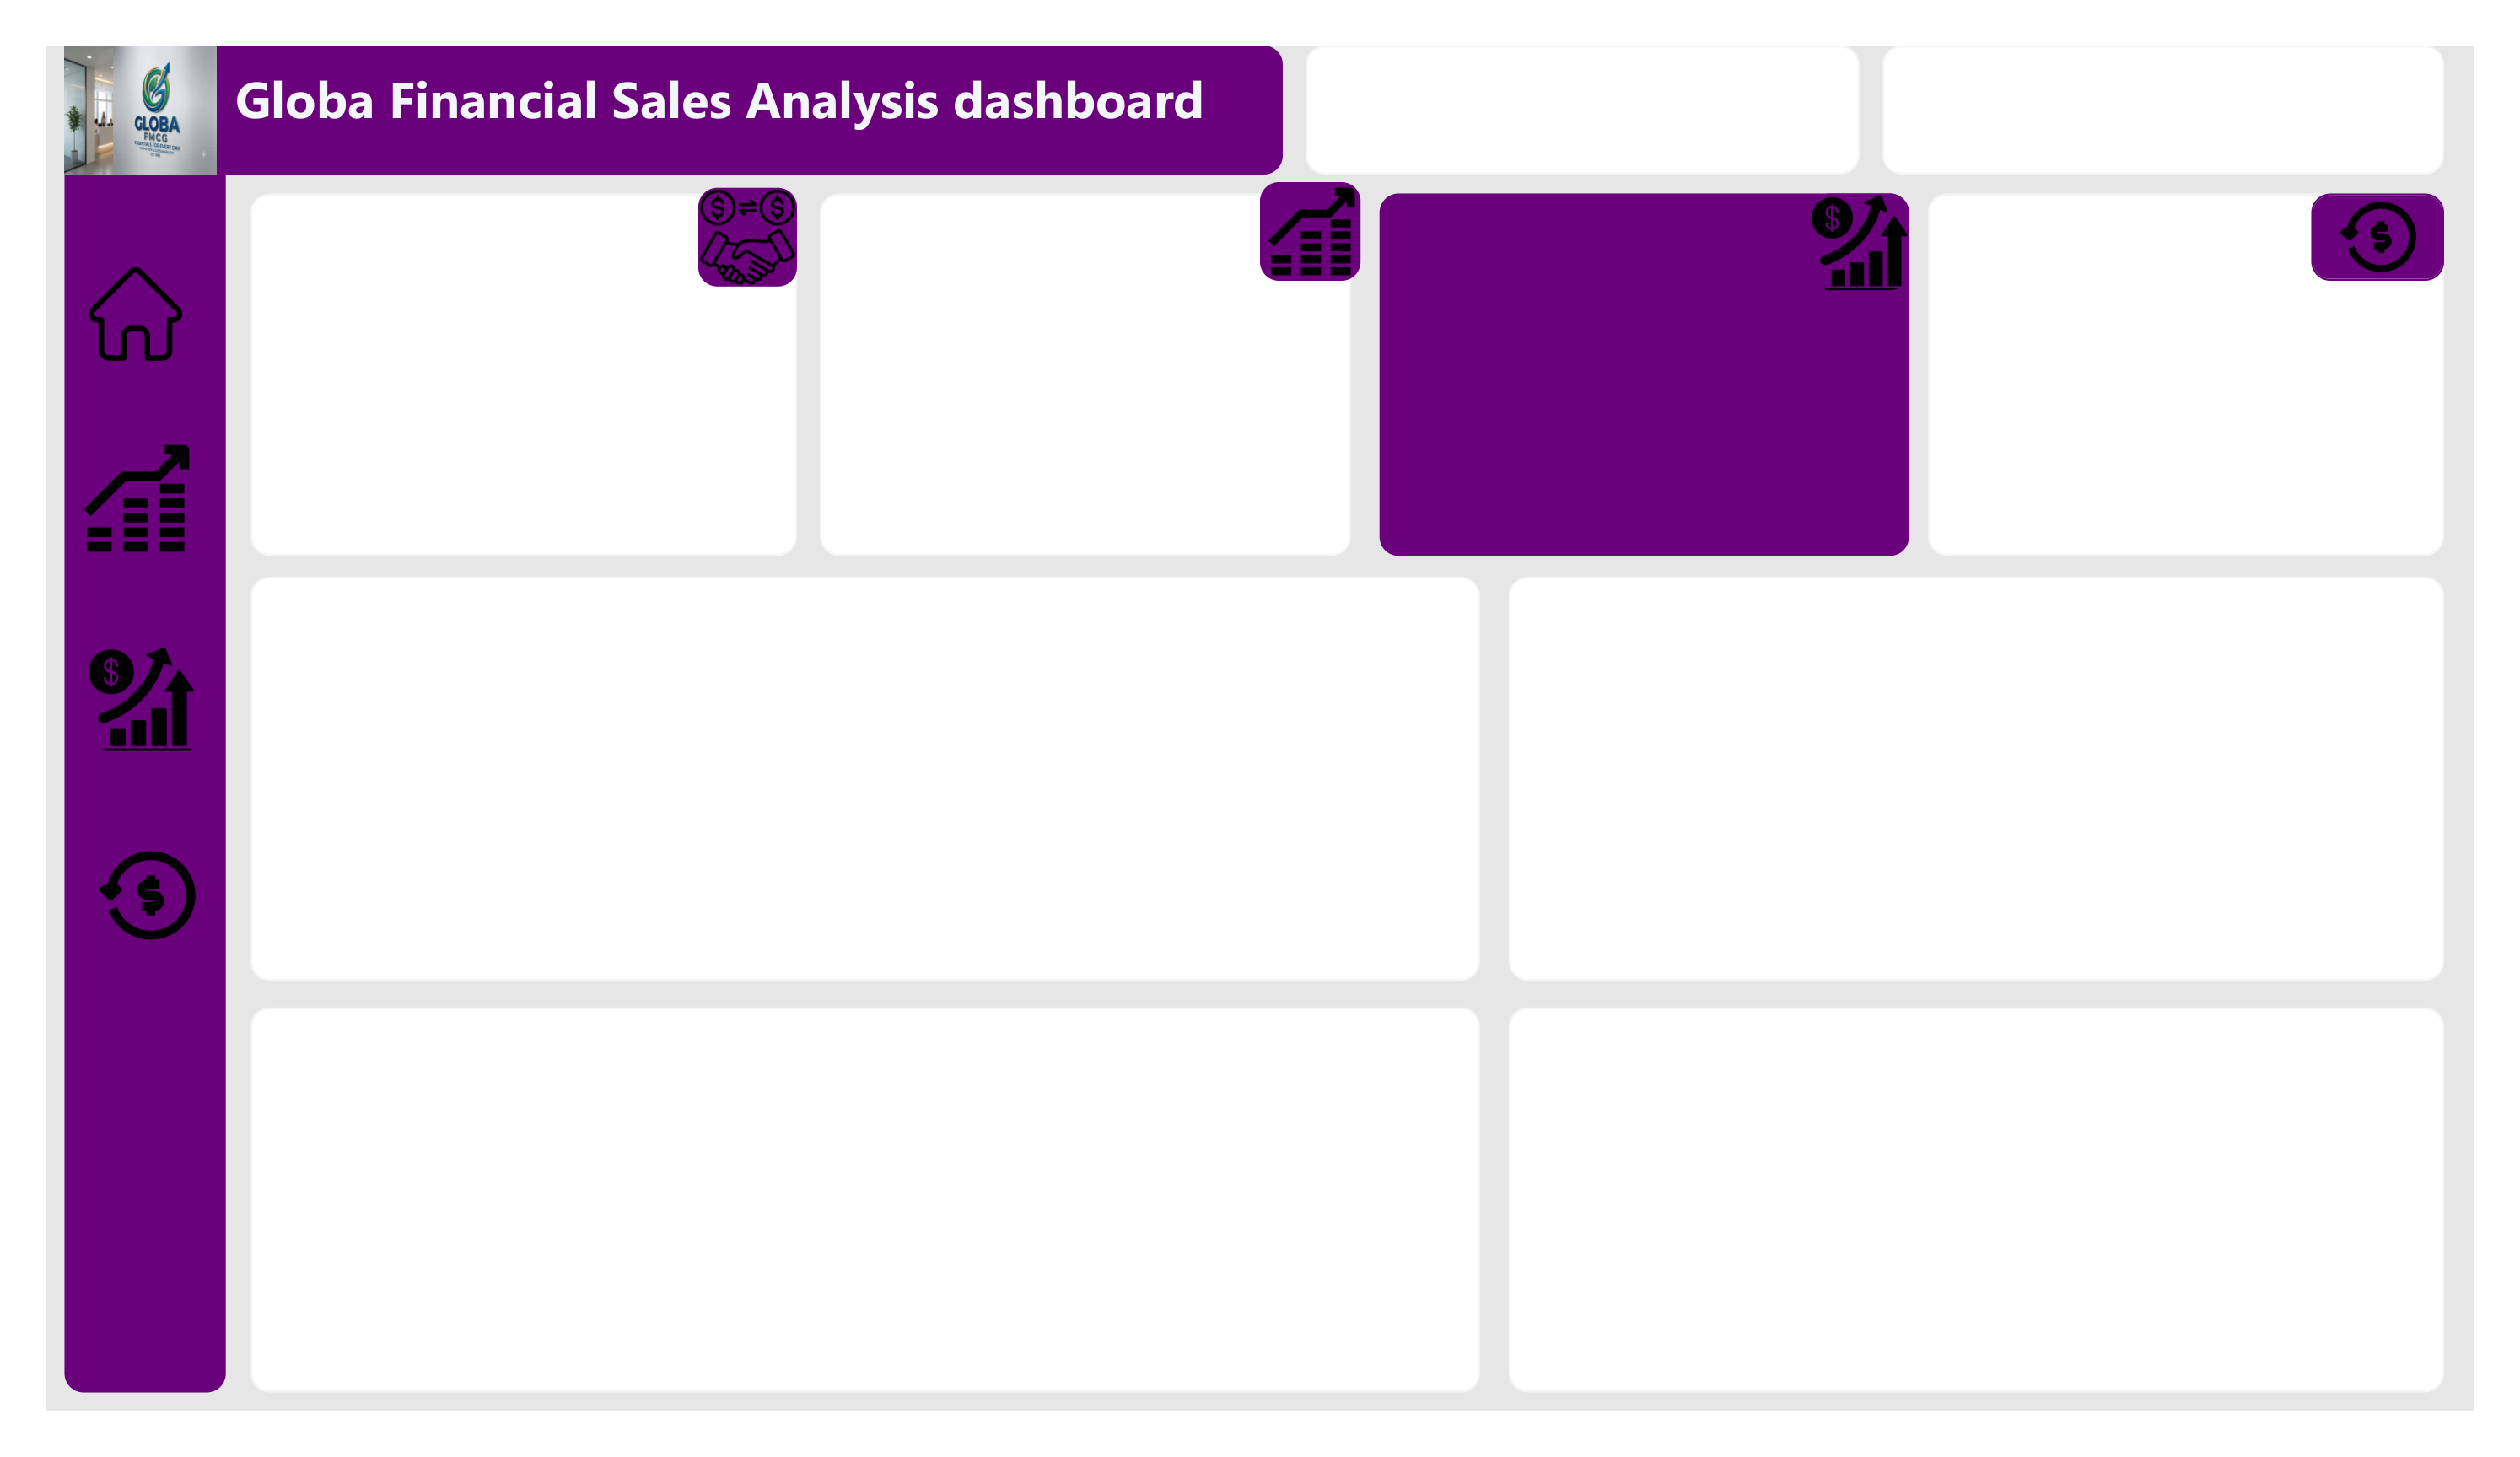

The dashboard page shown, as its layout file describes it:
{"tool":"powerbi","page":{"name":"Page 1","canvas":[1280,720],"ordinal":0},"visuals":[{"type":"textbox","box":[10.1,0,641.9,68],"z":0},{"type":"textbox","box":[10.1,0,85.3,709.9],"z":1000},{"type":"textbox","box":[108.4,78.1,287.7,190.8],"z":2000},{"type":"textbox","box":[702.7,78.1,279,190.8],"z":3000},{"type":"textbox","box":[991.8,78.1,271.8,190.8],"z":4000},{"type":"textbox","box":[407.7,78.1,280.5,190.8],"z":5000},{"type":"textbox","box":[663.6,0,292,68],"z":6000},{"type":"textbox","box":[968.3,0,295.3,67.6],"z":7000},{"type":"textbox","box":[108.4,280.5,647.7,212.5],"z":8000},{"type":"textbox","box":[770.6,280.5,493,212.5],"z":9000},{"type":"textbox","box":[108.4,507.5,647.7,202.4],"z":10000},{"type":"textbox","box":[770.9,507.7,493.1,202],"z":11000},{"type":"image","box":[10.1,0,79.5,68],"z":12000},{"type":"image","box":[23.1,109.9,49.2,63.6],"z":13000},{"type":"image","box":[15.9,208.2,62.2,60.7],"z":14000},{"type":"image","box":[23.1,312.3,54.9,63.6],"z":15000},{"type":"image","box":[24.6,416.4,56.4,63.6],"z":16000},{"type":"image","box":[344.1,75.2,52,52],"z":17000},{"type":"image","box":[640.7,78.4,51.8,53.2],"z":18000},{"type":"image","box":[929.6,78.1,52,52],"z":19000},{"type":"image","box":[1194.2,78.1,69.4,46.3],"z":20000},{"type":"slicer","fields":{"Values":["Dim_Location.Country"]},"box":[663.2,1.3,300.6,67.1],"z":20002},{"type":"slicer","fields":{"Values":["Dim_Segment.Segment"]},"box":[969,0,293.7,67.8],"z":20003},{"type":"card","fields":{"Values":["_Calculations.Total Transaction"]},"box":[109,78.4,288.4,191.4],"z":20004},{"type":"card","fields":{"Values":["_Calculations.Total Revenue"]},"box":[408.1,75.8,280.5,194.1],"z":20006},{"type":"card","fields":{"Values":["_Calculations.Profit"]},"box":[700.5,75.8,280.5,194.1],"z":20007},{"type":"card","fields":{"Values":["_Calculations.Profit Margin"]},"box":[991.6,75.8,280.5,194.1],"z":20008},{"type":"lineChart","fields":{"Y":["_Calculations.Total Revenue"],"Category":["Dim_Calender.Month Name"],"Series":["Dim_Calender.Year"]},"box":[109,280.5,647.3,212.7],"z":20009},{"type":"clusteredBarChart","fields":{"Y":["_Calculations.Total Revenue"],"Category":["Dim_Country.Country"]},"box":[770.9,280.5,491.8,212.7],"z":20010},{"type":"columnChart","fields":{"Category":["Dim_Segment.Segment"],"Y":["_Calculations.Total Revenue"]},"box":[109,507.7,647.3,202],"z":20011},{"type":"pivotTable","title":"Product Performance Breakdown","fields":{"Rows":["Dim_Product.Product"],"Values":["_Calculations.Total Transaction","_Calculations.Total Revenue","_Calculations.Profit","_Calculations.Profit Margin"]},"box":[770.6,517.6,508.9,192.3],"z":20012},{"type":"lineChart","fields":{"Y":["_Calculations.Total Transaction"],"Category":["Dim_Calender.Month Name"]},"box":[109,208.7,287.1,61.1],"z":20013},{"type":"lineChart","fields":{"Category":["Dim_Calender.Month Name"],"Y":["_Calculations.Total Revenue"]},"box":[408.1,208.7,280.5,61.1],"z":20014},{"type":"lineChart","fields":{"Category":["Dim_Calender.Month Name"],"Y":["_Calculations.Profit"]},"box":[704.5,207.4,276.5,61.1],"z":20015},{"type":"lineChart","fields":{"Category":["Dim_Calender.Month Name"],"Y":["_Calculations.Profit Margin"]},"box":[991.6,208.7,271.2,61.1],"z":20016}]}

Visuals, with their boxes in screenshot pixels (x1, y1, x2, y2), scaled from the page's 1280x720 canvas onto the 2520x1457 screenshot:
textbox: {"x1": 20, "y1": 0, "x2": 1284, "y2": 137}
textbox: {"x1": 20, "y1": 0, "x2": 188, "y2": 1437}
textbox: {"x1": 213, "y1": 158, "x2": 780, "y2": 544}
textbox: {"x1": 1383, "y1": 158, "x2": 1933, "y2": 544}
textbox: {"x1": 1952, "y1": 158, "x2": 2488, "y2": 544}
textbox: {"x1": 803, "y1": 158, "x2": 1355, "y2": 544}
textbox: {"x1": 1306, "y1": 0, "x2": 1882, "y2": 137}
textbox: {"x1": 1906, "y1": 0, "x2": 2488, "y2": 137}
textbox: {"x1": 213, "y1": 567, "x2": 1489, "y2": 997}
textbox: {"x1": 1517, "y1": 567, "x2": 2488, "y2": 997}
textbox: {"x1": 213, "y1": 1027, "x2": 1489, "y2": 1437}
textbox: {"x1": 1518, "y1": 1027, "x2": 2489, "y2": 1436}
image: {"x1": 20, "y1": 0, "x2": 176, "y2": 137}
image: {"x1": 46, "y1": 223, "x2": 143, "y2": 351}
image: {"x1": 31, "y1": 422, "x2": 153, "y2": 544}
image: {"x1": 46, "y1": 632, "x2": 153, "y2": 761}
image: {"x1": 48, "y1": 842, "x2": 159, "y2": 971}
image: {"x1": 677, "y1": 152, "x2": 780, "y2": 257}
image: {"x1": 1262, "y1": 159, "x2": 1364, "y2": 266}
image: {"x1": 1830, "y1": 158, "x2": 1932, "y2": 263}
image: {"x1": 2351, "y1": 158, "x2": 2488, "y2": 252}
slicer - Dim_Location.Country: {"x1": 1306, "y1": 3, "x2": 1898, "y2": 138}
slicer - Dim_Segment.Segment: {"x1": 1908, "y1": 0, "x2": 2486, "y2": 137}
card - _Calculations.Total Transaction: {"x1": 214, "y1": 159, "x2": 783, "y2": 546}
card - _Calculations.Total Revenue: {"x1": 804, "y1": 153, "x2": 1355, "y2": 546}
card - _Calculations.Profit: {"x1": 1379, "y1": 153, "x2": 1931, "y2": 546}
card - _Calculations.Profit Margin: {"x1": 1952, "y1": 153, "x2": 2505, "y2": 546}
lineChart - _Calculations.Total Revenue x Dim_Calender.Month Name: {"x1": 214, "y1": 567, "x2": 1489, "y2": 998}
clusteredBarChart - _Calculations.Total Revenue x Dim_Country.Country: {"x1": 1518, "y1": 567, "x2": 2486, "y2": 998}
columnChart - Dim_Segment.Segment x _Calculations.Total Revenue: {"x1": 214, "y1": 1027, "x2": 1489, "y2": 1436}
"Product Performance Breakdown" pivotTable: {"x1": 1517, "y1": 1047, "x2": 2519, "y2": 1437}
lineChart - _Calculations.Total Transaction x Dim_Calender.Month Name: {"x1": 214, "y1": 422, "x2": 780, "y2": 546}
lineChart - Dim_Calender.Month Name x _Calculations.Total Revenue: {"x1": 804, "y1": 422, "x2": 1355, "y2": 546}
lineChart - Dim_Calender.Month Name x _Calculations.Profit: {"x1": 1387, "y1": 420, "x2": 1931, "y2": 543}
lineChart - Dim_Calender.Month Name x _Calculations.Profit Margin: {"x1": 1952, "y1": 422, "x2": 2486, "y2": 546}
